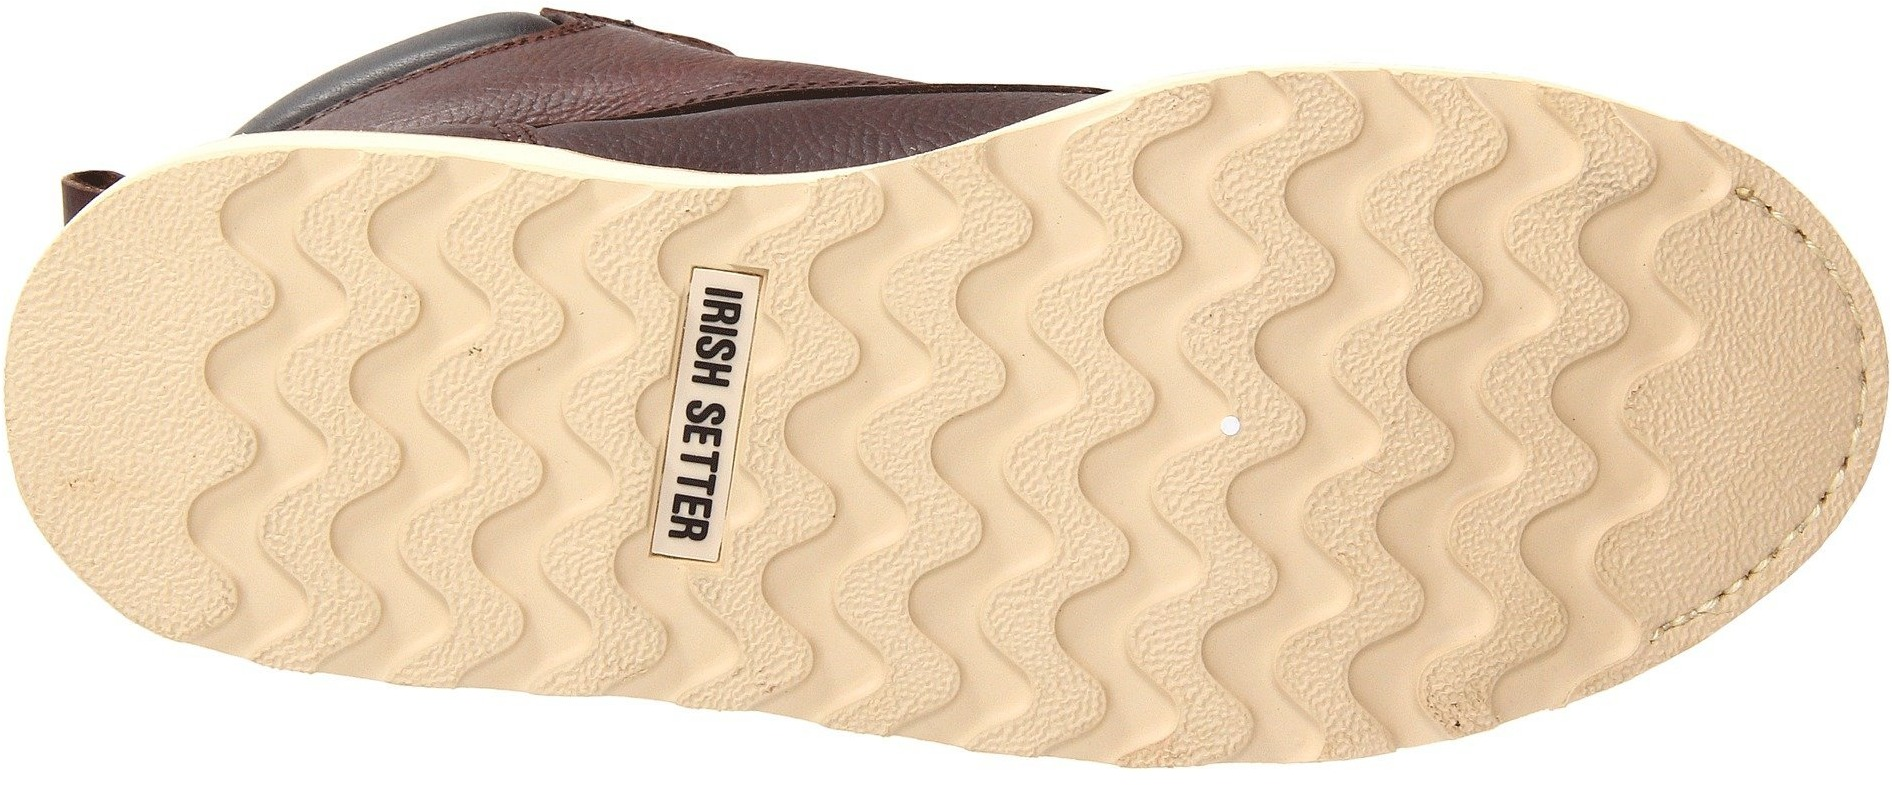chevron: (1055, 437, 1378, 724), (1351, 110, 1636, 408), (1046, 129, 1333, 422), (779, 440, 1039, 696), (781, 191, 1024, 434), (162, 200, 413, 437), (1392, 414, 1635, 652), (232, 444, 452, 656), (425, 191, 649, 386), (461, 470, 660, 649), (1643, 270, 1777, 404)
other: (18, 320, 162, 464)
text: (658, 449, 752, 540), (671, 273, 767, 357), (666, 357, 753, 446)
